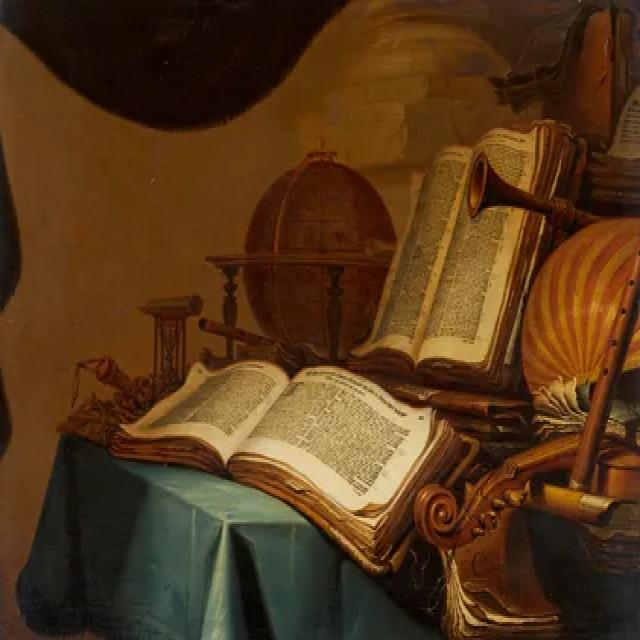book: (106, 333, 472, 581)
